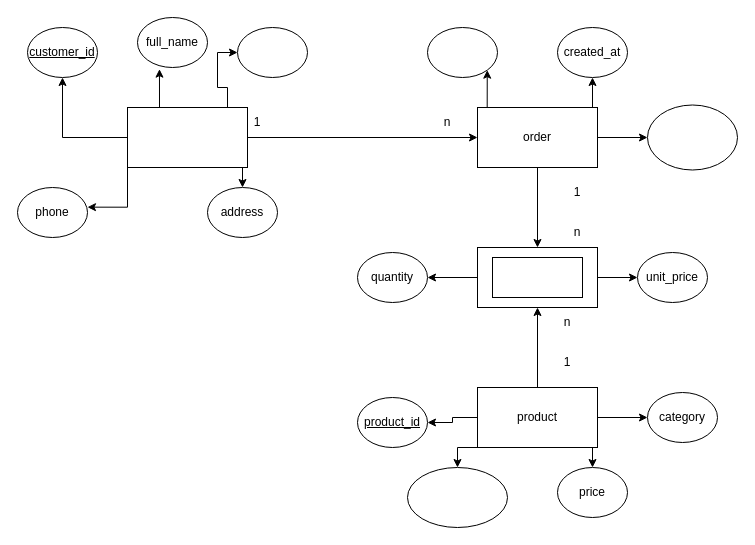
Some shapes in this 755 by 545 pixel diagram are drawn without their labels. Here are the shapes that lost their labels. From the top down, the centre of each, then its label:
pixel 272 52: email
pixel 462 52: order_id
pixel 187 137: customer
pixel 692 137: total_amount
pixel 537 277: order_item
pixel 457 497: product_name
